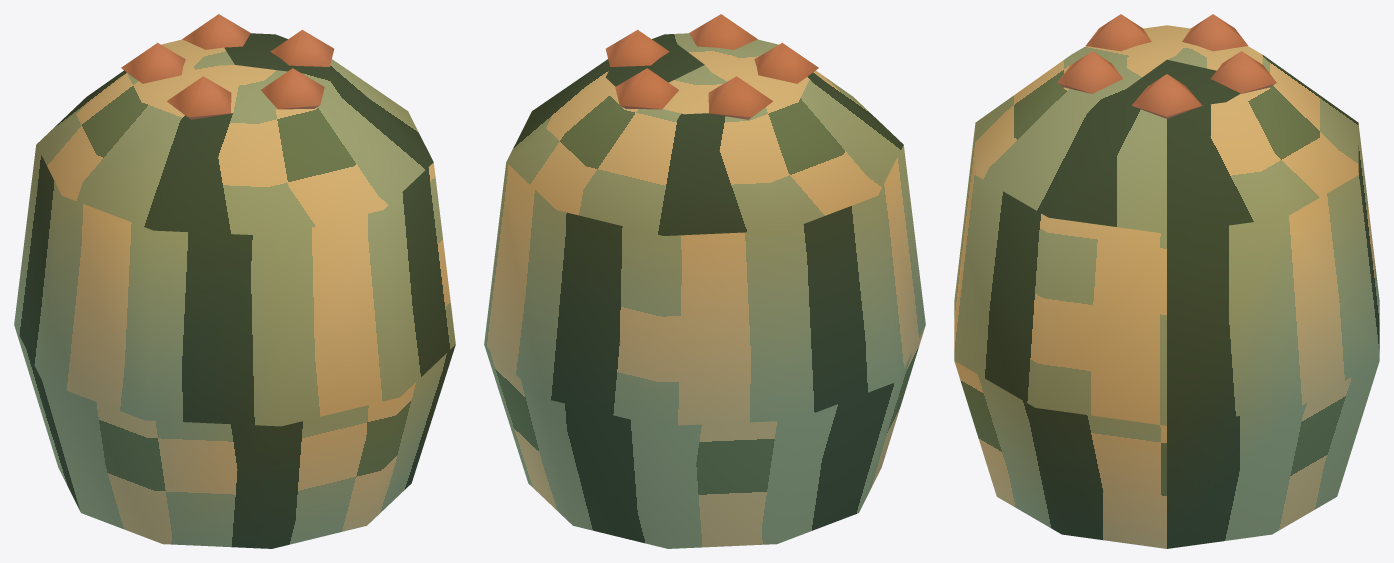
The model's file is wprop.cactus__barrel.glb.
The picture shows the model from 3 angles, left to right: view 1: azimuth 30°, elevation 25°; view 2: azimuth 150°, elevation 25°; view 3: azimuth 270°, elevation 25°; orthographic projection.
Visible parts, largest first — view 1: kit_body, kit_flowers; view 2: kit_body, kit_flowers; view 3: kit_body, kit_flowers.
Part boxes in pixels (x1,y1,x2,y2): kit_body: [14, 33, 455, 548]; kit_flowers: [121, 14, 334, 119]; kit_body: [484, 33, 925, 548]; kit_flowers: [605, 14, 818, 119]; kit_body: [954, 25, 1379, 548]; kit_flowers: [1057, 14, 1276, 118].
Bounding box in the file's own units: 0.6 × 0.64 × 0.5706.
Materials: 2 (2 with a texture image).
